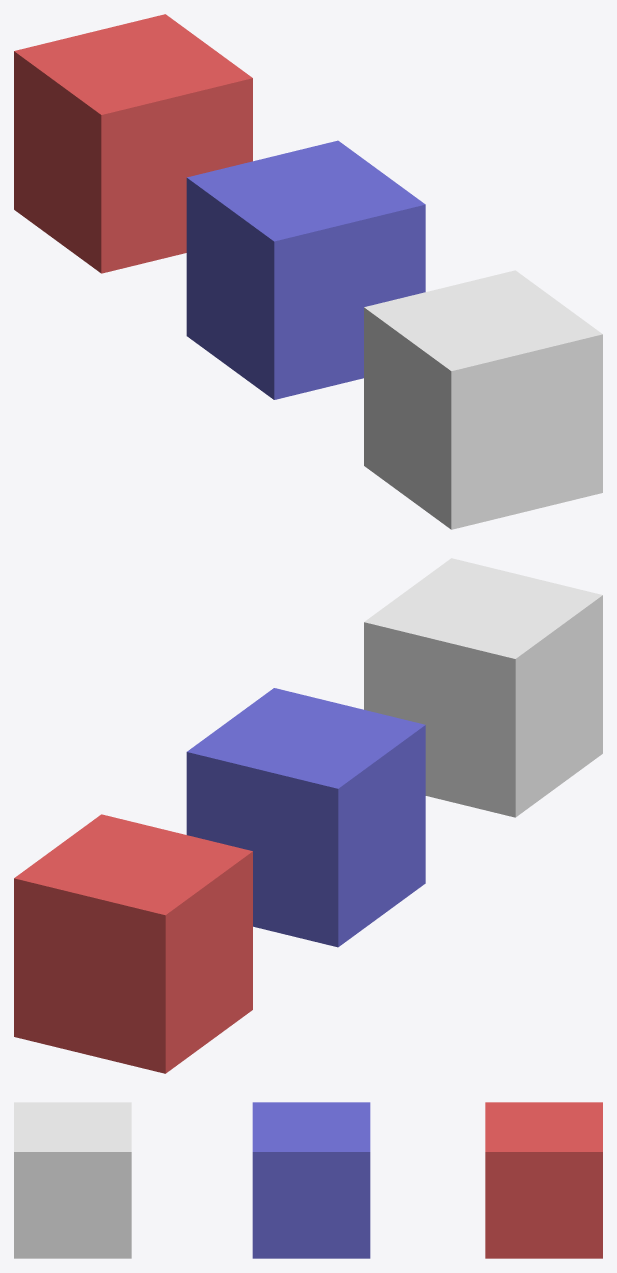
File: step_002_threecube.glb
3 views of the same model, one above another, from view 1: azimuth 30°, elevation 25°; view 2: azimuth 150°, elevation 25°; view 3: azimuth 270°, elevation 25° (orthographic). The views are drawn at different scales.
Visible parts, largest first — view 1: CubeL, CubeM, CubeR; view 2: CubeR, CubeL, CubeM; view 3: CubeM, CubeR, CubeL.
Boxes of the visible parts, bbox=[...] form: CubeL: bbox=[364, 270, 602, 529]; CubeM: bbox=[186, 140, 425, 399]; CubeR: bbox=[14, 14, 252, 273]; CubeR: bbox=[14, 814, 252, 1073]; CubeL: bbox=[364, 558, 602, 817]; CubeM: bbox=[186, 688, 425, 947]; CubeM: bbox=[252, 1102, 370, 1258]; CubeR: bbox=[485, 1102, 602, 1258]; CubeL: bbox=[14, 1102, 131, 1258].
Size of the model in its own units: 2 by 2 by 10.
